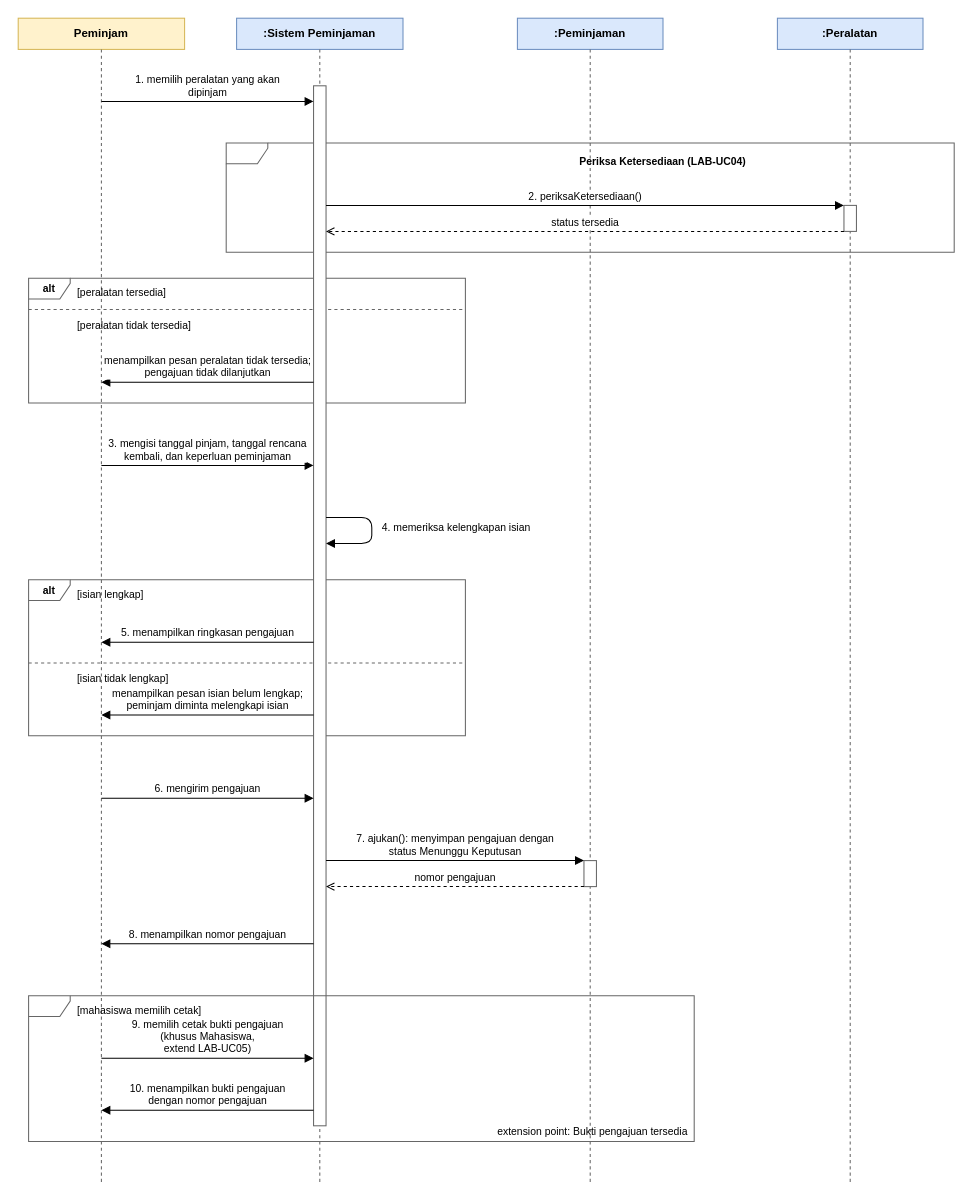
Some shapes in this 972 by 1202 pixel diagram are drawn without their labels. The shapes that lost their labels are listed below. From the top down, each one's box as (x1, y1, x2, y2) in pixels, then its label:
(225, 142, 954, 252): ref
(28, 995, 694, 1141): opt
